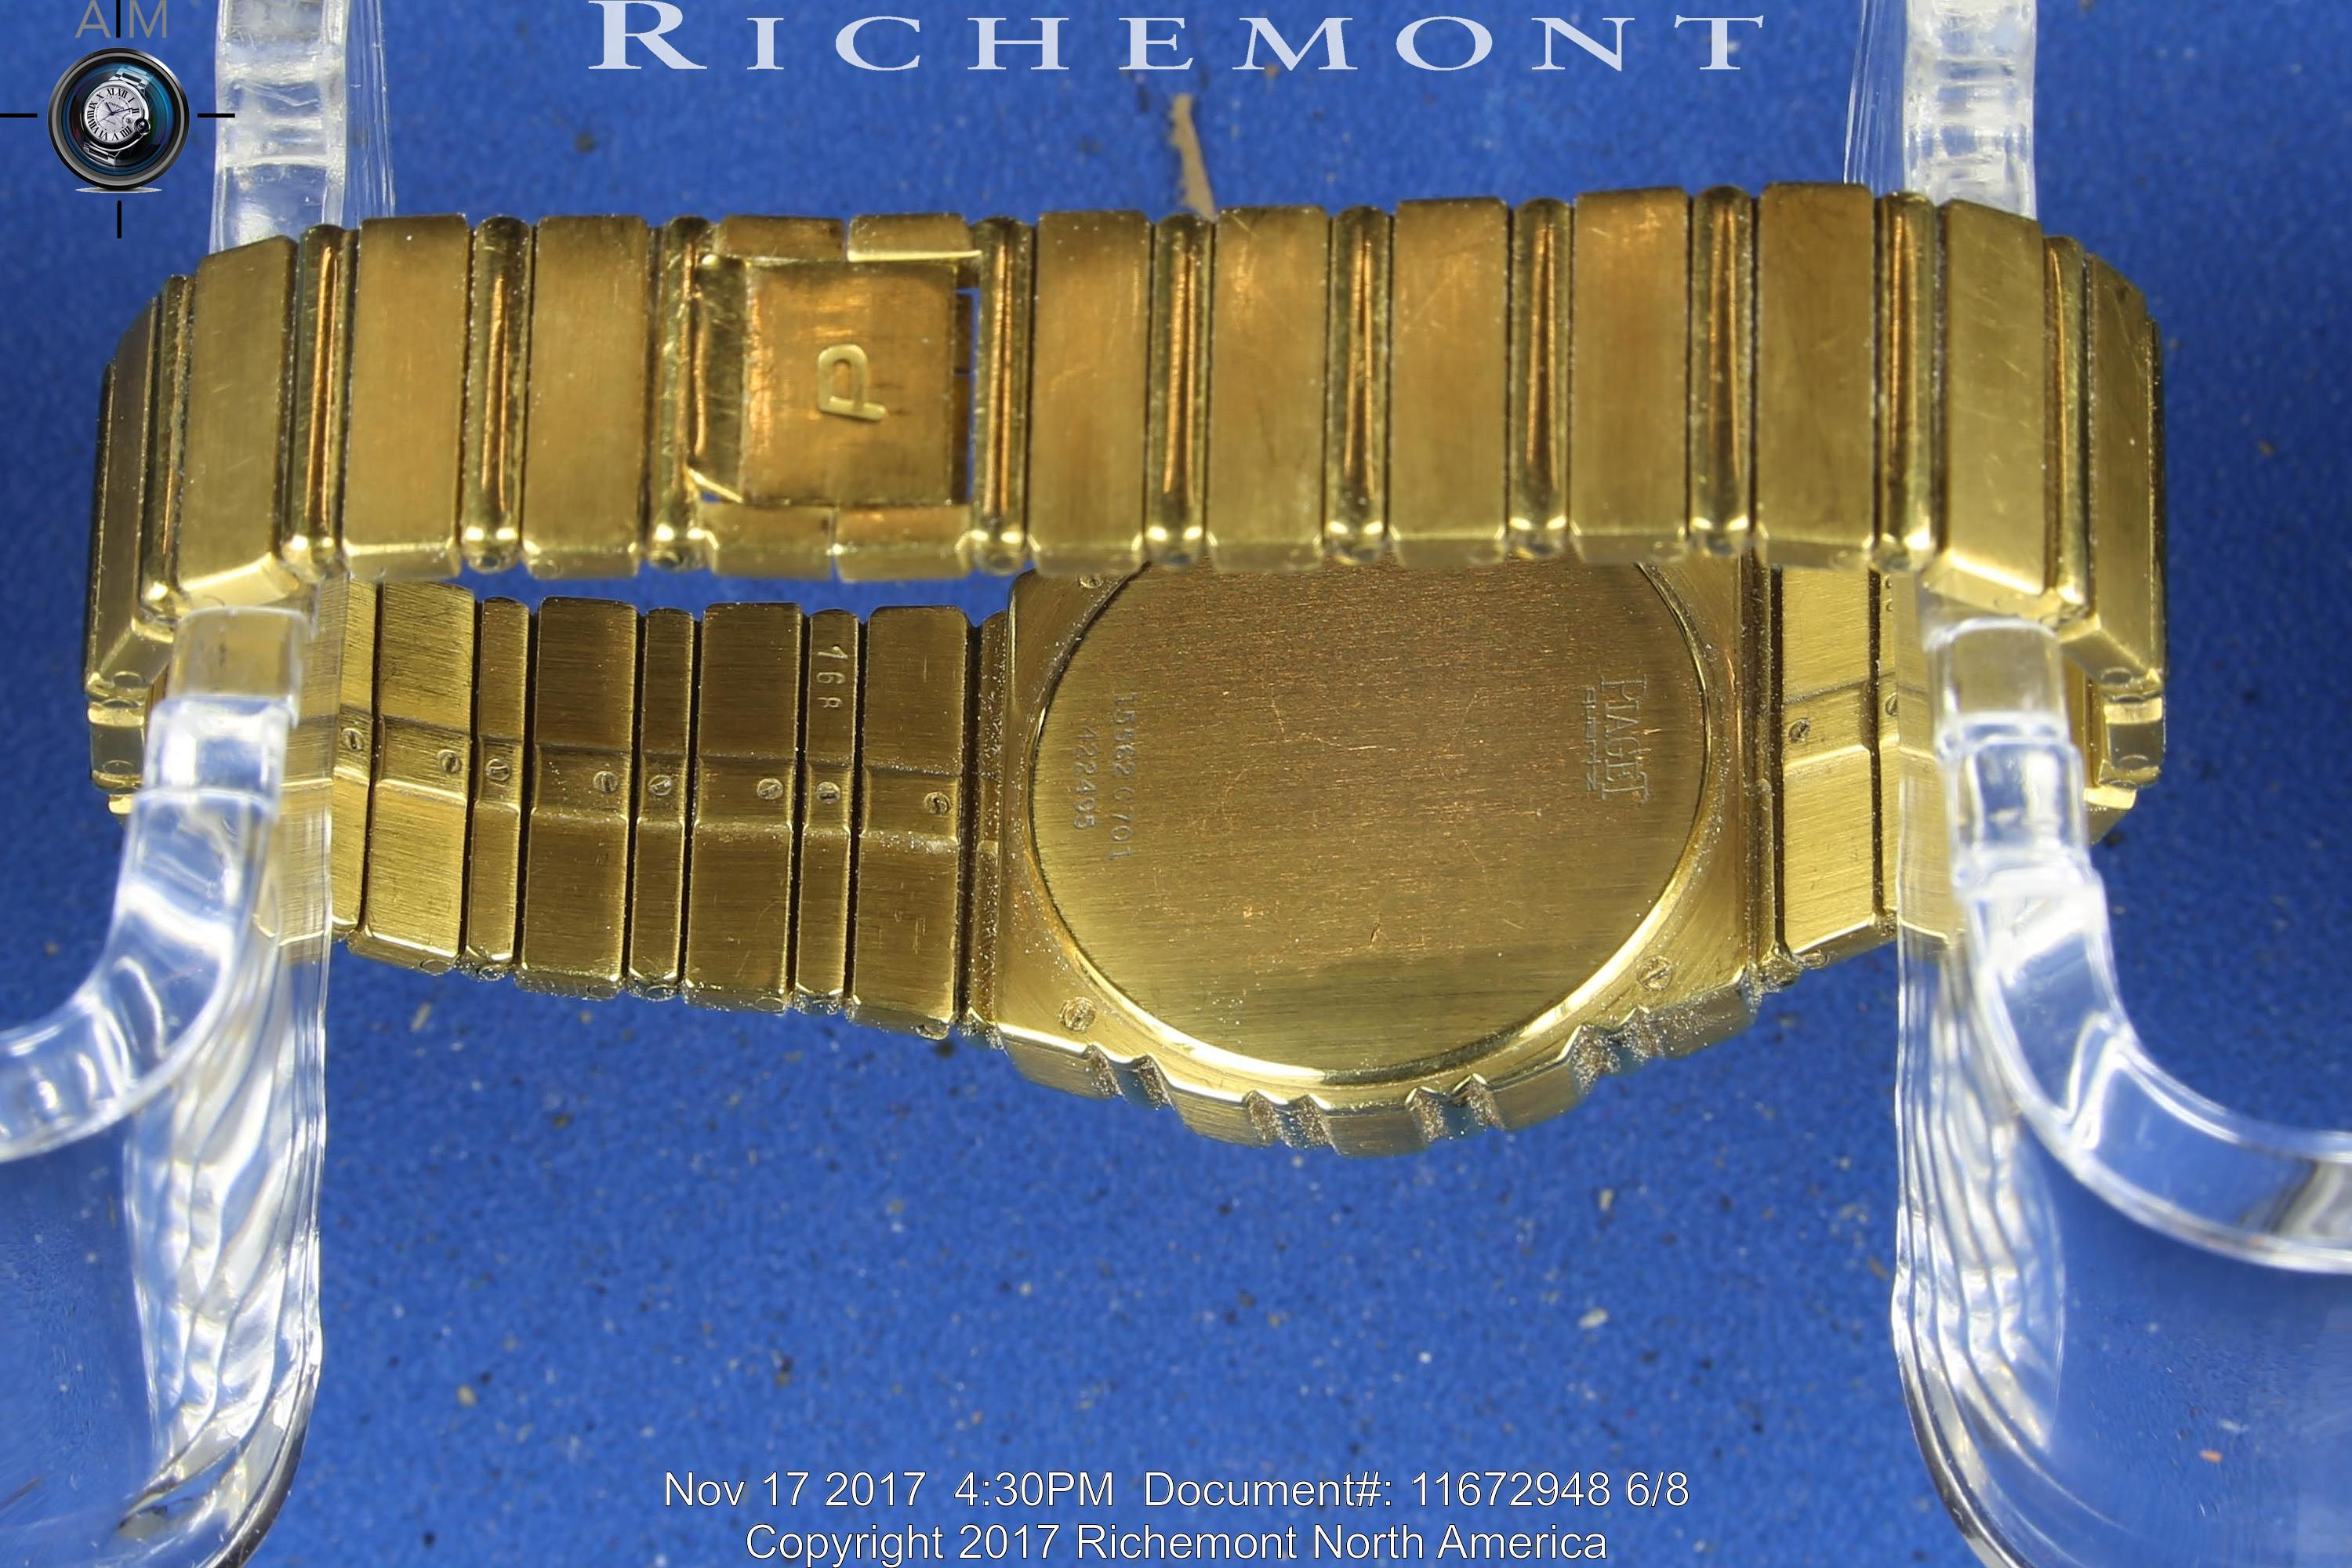Watch BackCase: (990, 579, 1766, 1169)
